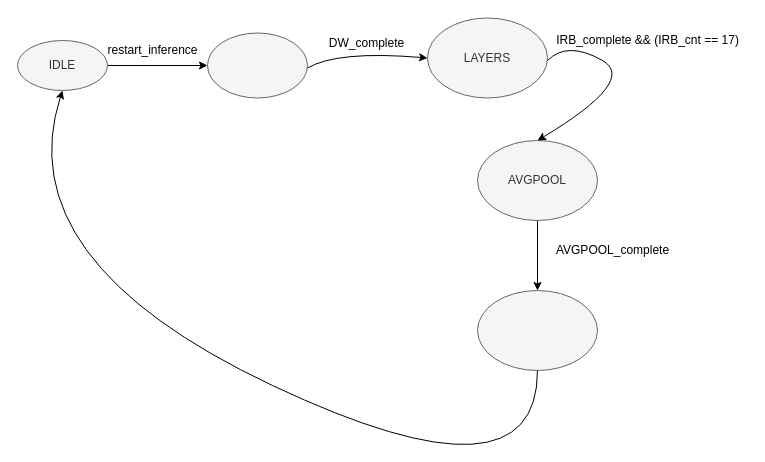
Image size: 765x462. Some labels were removed from this diagram. The shapes that lost their labels are listed below. From the top down, each one's centre as x and y in pixels, then its label:
[257,65]: CONV
[537,330]: FC
